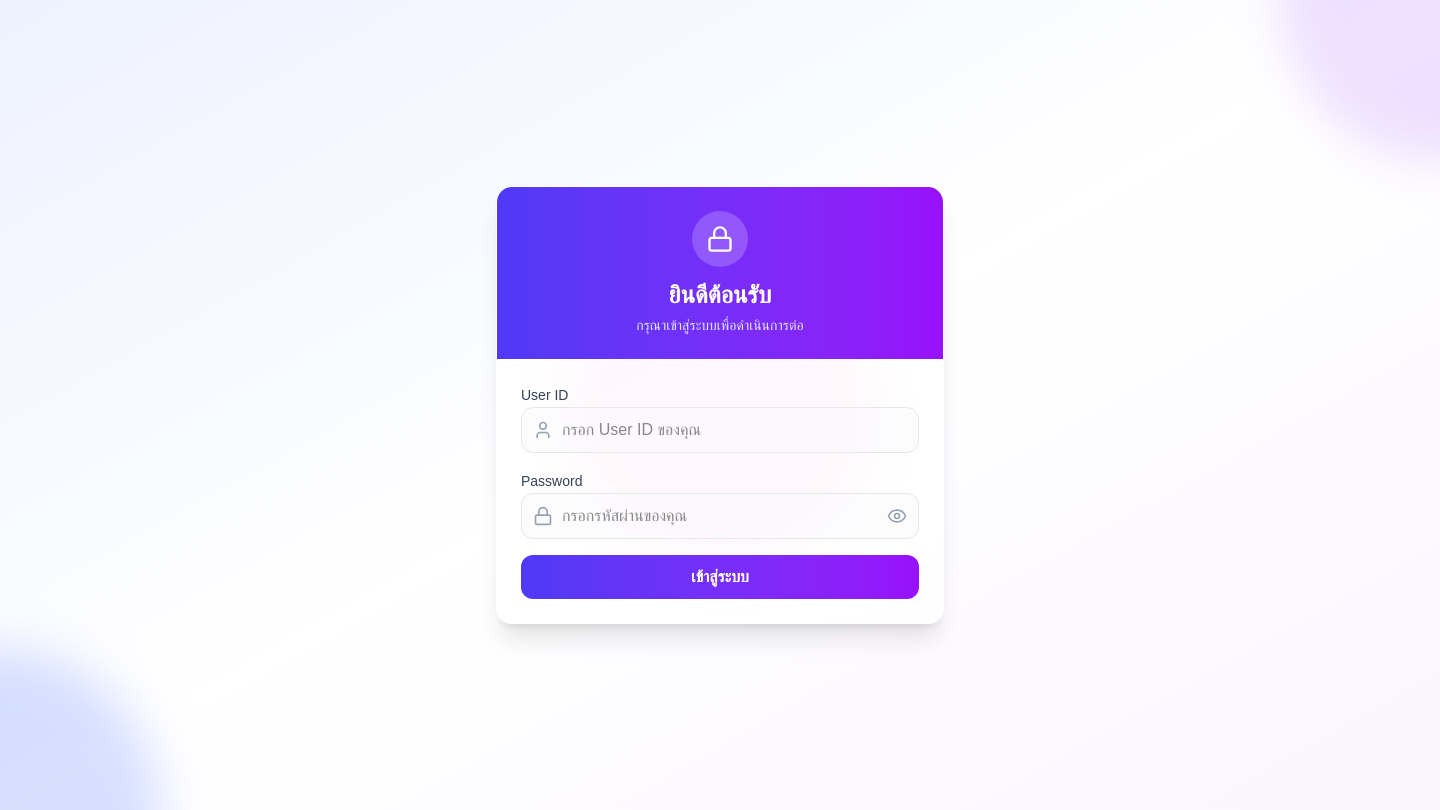
Login Component › 3. should show an error message for an empty password
Type "testuser" into the field with placeholder "กรอก User ID ของคุณ" at point(720, 430), box 521,407 -> 919,453
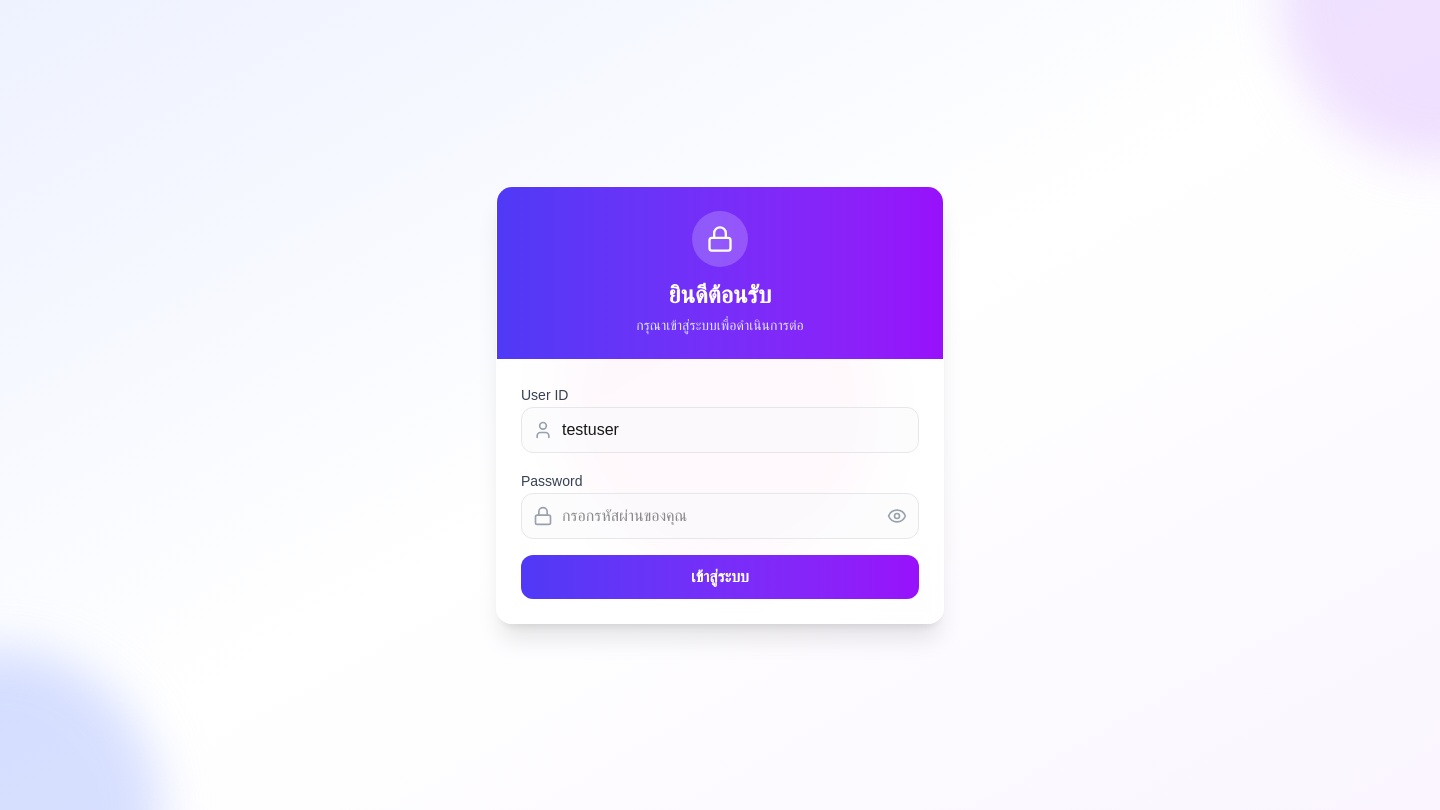
Click the button "เข้าสู่ระบบ" at point(720, 577), box 521,555 -> 919,599
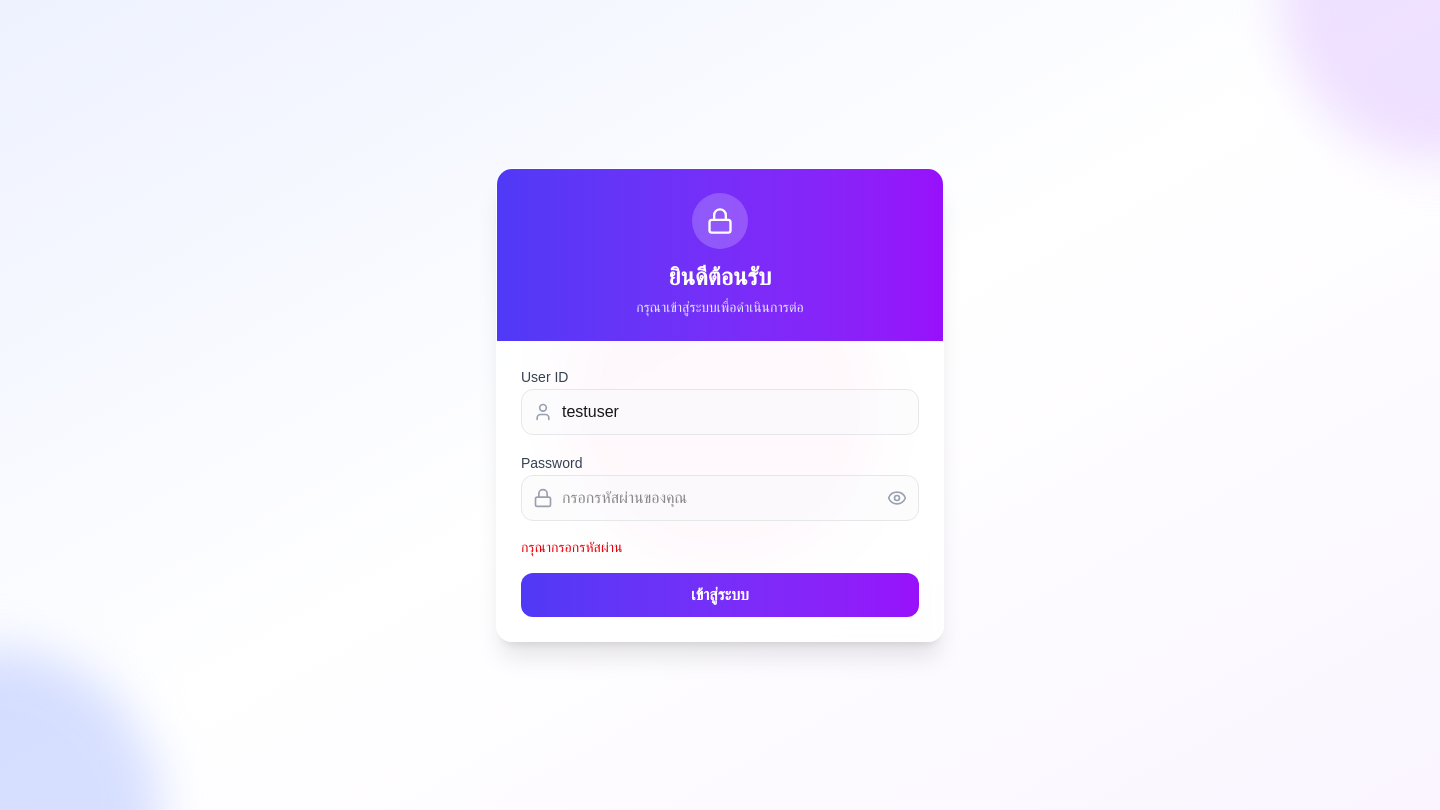
Now the text "กรุณากรอกรหัสผ่าน" is shown, box 521,539 -> 622,555
